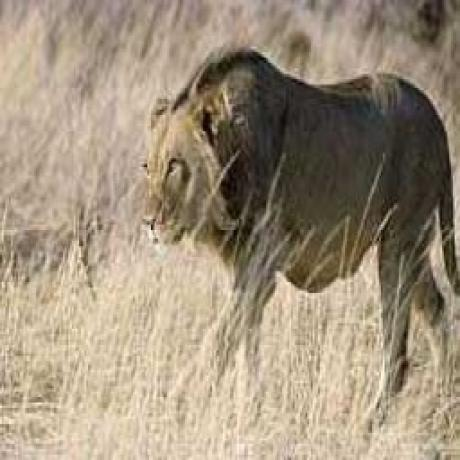Lion: (130, 40, 457, 378)
